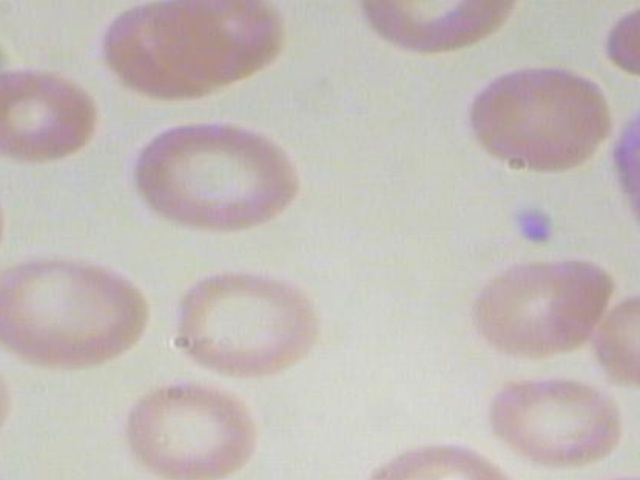Platelets: (509, 201, 570, 256)
RBC: (157, 267, 331, 383), (136, 118, 309, 234), (444, 56, 617, 172), (102, 371, 275, 480), (461, 254, 619, 368), (0, 258, 153, 374), (473, 364, 637, 470), (76, 0, 240, 98), (137, 0, 301, 85), (0, 63, 115, 169), (577, 277, 640, 391), (600, 0, 640, 85), (0, 341, 22, 447), (0, 154, 13, 294)
WBC: (609, 63, 640, 305)
